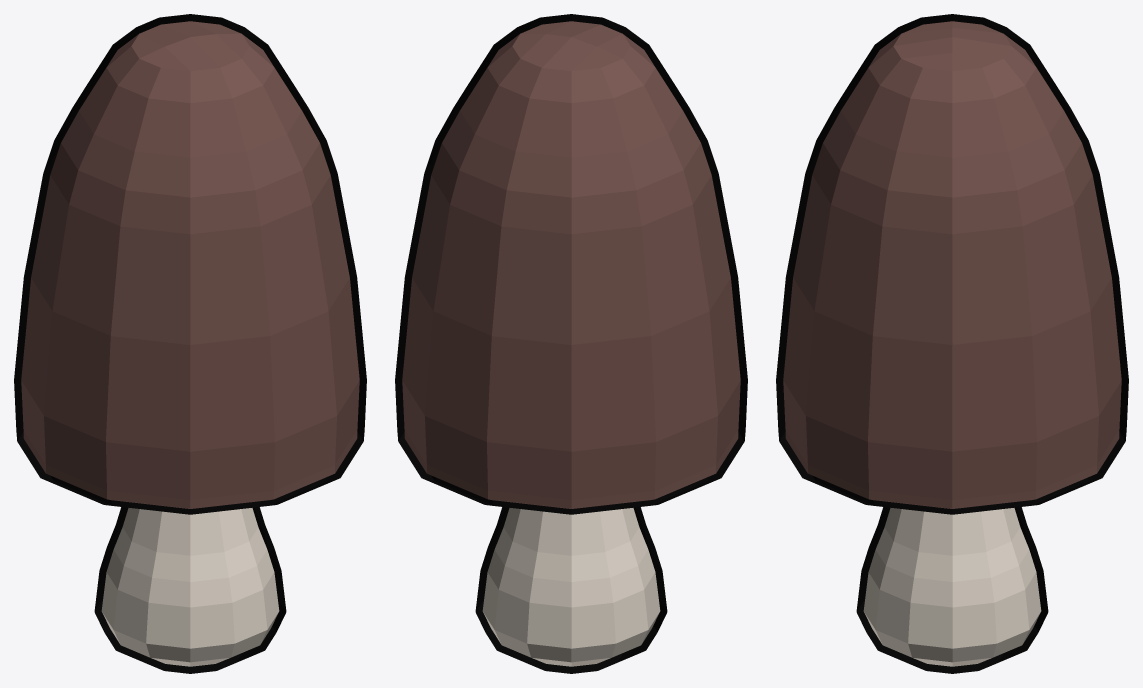
File: shroom_2.fbx
3 renders of one model, left to right at view 1: azimuth 30°, elevation 25°; view 2: azimuth 150°, elevation 25°; view 3: azimuth 270°, elevation 25°, orthographic.
Parts seen in each view (by area): view 1: shroom_2, shroom_2_outliner; view 2: shroom_2, shroom_2_outliner; view 3: shroom_2, shroom_2_outliner.
Part boxes in pixels (left/top/right/bottom): shroom_2: left=21, top=21, right=359, bottom=666; shroom_2_outliner: left=14, top=14, right=366, bottom=673; shroom_2: left=402, top=21, right=740, bottom=666; shroom_2_outliner: left=395, top=14, right=747, bottom=673; shroom_2: left=783, top=21, right=1121, bottom=666; shroom_2_outliner: left=776, top=14, right=1128, bottom=673.
Size of the model in its own units: 16.4 by 31.85 by 16.4.
